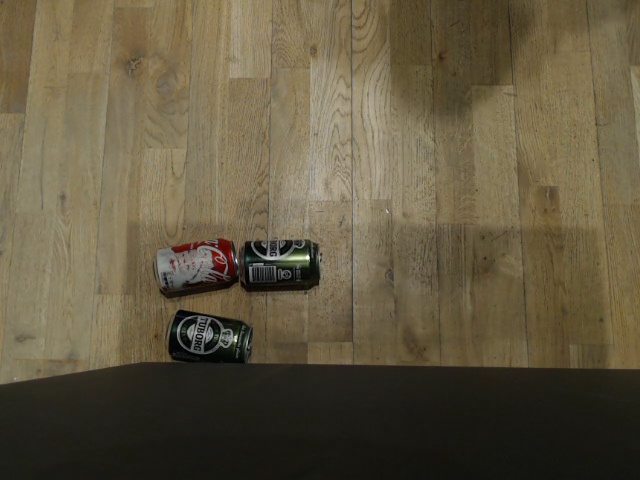beer: (239, 232, 327, 294), (160, 310, 255, 364)
cola: (135, 233, 228, 295)
